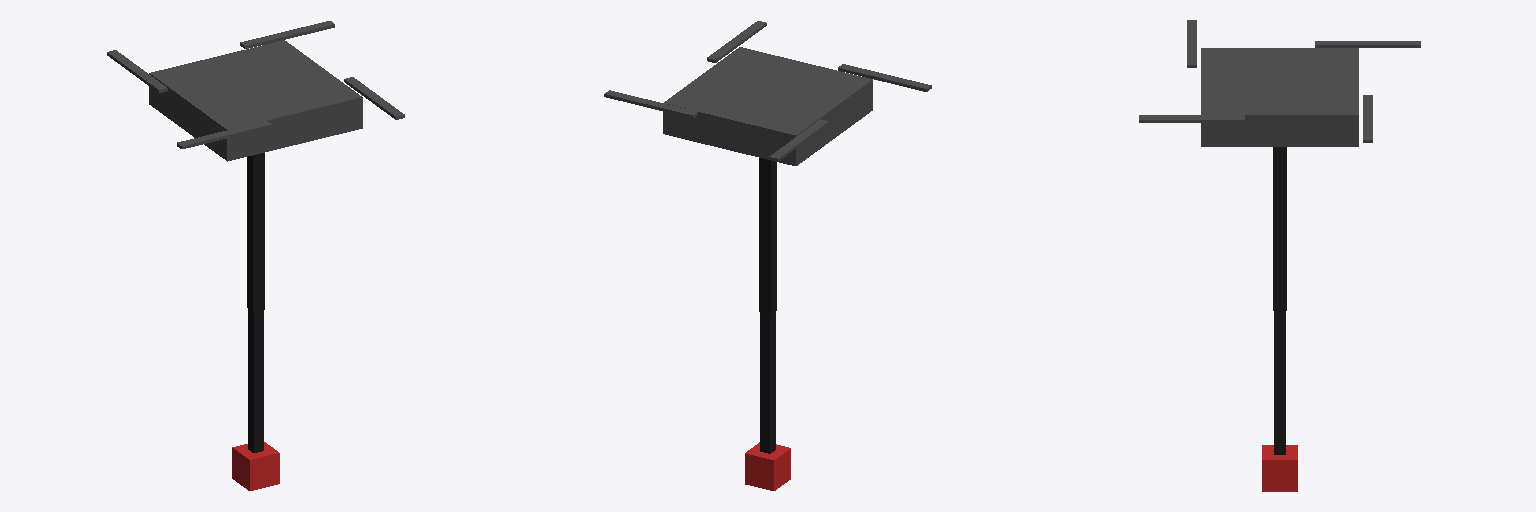
URDF robot description (simple_mesh_aerial_manipulator):
<?xml version="1.0"?>
<robot name="simple_mesh_aerial_manipulator">

  <material name="chassis_gray">
    <color rgba="0.35 0.35 0.35 1.0"/>
  </material>
  <material name="arm_black">
    <color rgba="0.15 0.15 0.15 1.0"/>
  </material>
  <material name="ee_red">
    <color rgba="0.8 0.2 0.2 1.0"/>
  </material>

  <link name="base_link">
    <inertial>
      <origin xyz="0 0 0"/>
      <mass value="0.04"/>
      <inertia ixx="3.2e-5" ixy="0.0" ixz="0.0" iyy="3.2e-5" iyz="0.0" izz="6.0e-5"/>
    </inertial>
    <visual>
      <origin xyz="0 0 0"/>
      <geometry>
        <mesh filename="meshes/base_link.stl"/>
      </geometry>
      <material name="chassis_gray"/>
    </visual>
    <collision>
      <origin xyz="0 0 0"/>
      <geometry>
        <mesh filename="meshes/base_link.stl"/>
      </geometry>
    </collision>
  </link>

  <link name="prop1">
    <inertial>
      <origin xyz="0 0 0"/>
      <mass value="0.001"/>
      <inertia ixx="1.0e-8" ixy="0.0" ixz="0.0" iyy="1.0e-8" iyz="0.0" izz="1.0e-8"/>
    </inertial>
    <visual>
      <origin xyz="0 0 0" rpy="0 0 0"/>
      <geometry>
        <mesh filename="meshes/prop.stl"/>
      </geometry>
      <material name="chassis_gray"/>
    </visual>
    <collision>
      <origin xyz="0 0 0"/>
      <geometry>
        <mesh filename="meshes/prop.stl"/>
      </geometry>
    </collision>
  </link>

  <link name="prop2">
    <inertial>
      <origin xyz="0 0 0"/>
      <mass value="0.001"/>
      <inertia ixx="1.0e-8" ixy="0.0" ixz="0.0" iyy="1.0e-8" iyz="0.0" izz="1.0e-8"/>
    </inertial>
    <visual>
      <origin xyz="0 0 0" rpy="0 0 1.5707963268"/>
      <geometry>
        <mesh filename="meshes/prop.stl"/>
      </geometry>
      <material name="chassis_gray"/>
    </visual>
    <collision>
      <origin xyz="0 0 0" rpy="0 0 1.5707963268"/>
      <geometry>
        <mesh filename="meshes/prop.stl"/>
      </geometry>
    </collision>
  </link>

  <link name="prop3">
    <inertial>
      <origin xyz="0 0 0"/>
      <mass value="0.001"/>
      <inertia ixx="1.0e-8" ixy="0.0" ixz="0.0" iyy="1.0e-8" iyz="0.0" izz="1.0e-8"/>
    </inertial>
    <visual>
      <origin xyz="0 0 0" rpy="0 0 0"/>
      <geometry>
        <mesh filename="meshes/prop.stl"/>
      </geometry>
      <material name="chassis_gray"/>
    </visual>
    <collision>
      <origin xyz="0 0 0"/>
      <geometry>
        <mesh filename="meshes/prop.stl"/>
      </geometry>
    </collision>
  </link>

  <link name="prop4">
    <inertial>
      <origin xyz="0 0 0"/>
      <mass value="0.001"/>
      <inertia ixx="1.0e-8" ixy="0.0" ixz="0.0" iyy="1.0e-8" iyz="0.0" izz="1.0e-8"/>
    </inertial>
    <visual>
      <origin xyz="0 0 0" rpy="0 0 1.5707963268"/>
      <geometry>
        <mesh filename="meshes/prop.stl"/>
      </geometry>
      <material name="chassis_gray"/>
    </visual>
    <collision>
      <origin xyz="0 0 0" rpy="0 0 1.5707963268"/>
      <geometry>
        <mesh filename="meshes/prop.stl"/>
      </geometry>
    </collision>
  </link>

  <joint name="prop1_joint" type="fixed">
    <parent link="base_link"/>
    <child link="prop1"/>
    <origin xyz="0.05 0.05 0.01" rpy="0 0 0"/>
  </joint>

  <joint name="prop2_joint" type="fixed">
    <parent link="base_link"/>
    <child link="prop2"/>
    <origin xyz="-0.05 0.05 0.01" rpy="0 0 0"/>
  </joint>

  <joint name="prop3_joint" type="fixed">
    <parent link="base_link"/>
    <child link="prop3"/>
    <origin xyz="-0.05 -0.05 0.01" rpy="0 0 0"/>
  </joint>

  <joint name="prop4_joint" type="fixed">
    <parent link="base_link"/>
    <child link="prop4"/>
    <origin xyz="0.05 -0.05 0.01" rpy="0 0 0"/>
  </joint>

  <link name="arm_link_1">
    <inertial>
      <origin xyz="0 0 -0.06"/>
      <mass value="0.008"/>
      <inertia ixx="9.8e-6" ixy="0.0" ixz="0.0" iyy="9.8e-6" iyz="0.0" izz="3.0e-7"/>
    </inertial>
    <visual>
      <origin xyz="0 0 -0.06"/>
      <geometry>
        <mesh filename="meshes/arm_link_1.stl"/>
      </geometry>
      <material name="arm_black"/>
    </visual>
    <collision>
      <origin xyz="0 0 -0.06"/>
      <geometry>
        <mesh filename="meshes/arm_link_1.stl"/>
      </geometry>
    </collision>
  </link>

  <link name="arm_link_2">
    <inertial>
      <origin xyz="0 0 -0.05"/>
      <mass value="0.006"/>
      <inertia ixx="5.2e-6" ixy="0.0" ixz="0.0" iyy="5.2e-6" iyz="0.0" izz="2.0e-7"/>
    </inertial>
    <visual>
      <origin xyz="0 0 -0.05"/>
      <geometry>
        <mesh filename="meshes/arm_link_2.stl"/>
      </geometry>
      <material name="arm_black"/>
    </visual>
    <collision>
      <origin xyz="0 0 -0.05"/>
      <geometry>
        <mesh filename="meshes/arm_link_2.stl"/>
      </geometry>
    </collision>
  </link>

  <link name="end_effector">
    <inertial>
      <origin xyz="0 0 0"/>
      <mass value="0.002"/>
      <inertia ixx="1.5e-7" ixy="0.0" ixz="0.0" iyy="1.5e-7" iyz="0.0" izz="1.5e-7"/>
    </inertial>
    <visual>
      <origin xyz="0 0 0"/>
      <geometry>
        <mesh filename="meshes/end_effector.stl"/>
      </geometry>
      <material name="ee_red"/>
    </visual>
    <collision>
      <origin xyz="0 0 0"/>
      <geometry>
        <mesh filename="meshes/end_effector.stl"/>
      </geometry>
    </collision>
  </link>

  <joint name="manipulator_joint_1" type="revolute">
    <parent link="base_link"/>
    <child link="arm_link_1"/>
    <origin xyz="0 0 -0.012" rpy="0 0 0"/>
    <axis xyz="0 1 0"/>
    <limit lower="-1.2" upper="1.2" effort="0.25" velocity="14.0"/>
    <dynamics damping="0.02" friction="0.0"/>
  </joint>

  <joint name="manipulator_joint_2" type="revolute">
    <parent link="arm_link_1"/>
    <child link="arm_link_2"/>
    <origin xyz="0 0 -0.12" rpy="0 0 0"/>
    <axis xyz="0 1 0"/>
    <limit lower="-1.5" upper="1.5" effort="0.15" velocity="18.0"/>
    <dynamics damping="0.015" friction="0.0"/>
  </joint>

  <joint name="ee_fixed" type="fixed">
    <parent link="arm_link_2"/>
    <child link="end_effector"/>
    <origin xyz="0 0 -0.1" rpy="0 0 0"/>
  </joint>

</robot>

--- What the picture shows (computed from the rendered views, not written in the file) ---
The picture shows the robot from 3 angles, left to right: view 1: azimuth 30°, elevation 25°; view 2: azimuth 150°, elevation 25°; view 3: azimuth 270°, elevation 25°; orthographic projection.
Robot: simple_mesh_aerial_manipulator — 8 links, 7 joints (2 revolute, 5 fixed); root link base_link; default pose: all joints at 0.
Visible links, largest first — view 1: base_link, arm_link_1, arm_link_2, end_effector, prop1, prop3, prop2, prop4; view 2: base_link, arm_link_1, arm_link_2, end_effector, prop3, prop1, prop2, prop4; view 3: base_link, arm_link_1, arm_link_2, end_effector, prop4, prop2.
Link boxes in pixels (<box>): base_link: <box>149,40,362,161</box>; arm_link_1: <box>247,153,264,311</box>; arm_link_2: <box>248,309,263,452</box>; end_effector: <box>232,442,279,490</box>; prop1: <box>240,21,334,48</box>; prop3: <box>177,121,271,148</box>; prop2: <box>107,50,167,92</box>; prop4: <box>344,77,404,119</box>; base_link: <box>663,47,872,165</box>; arm_link_1: <box>759,158,776,314</box>; arm_link_2: <box>760,312,775,453</box>; end_effector: <box>745,442,790,490</box>; prop3: <box>838,64,931,91</box>; prop1: <box>604,90,697,118</box>; prop2: <box>769,119,828,161</box>; prop4: <box>707,21,766,62</box>; base_link: <box>1201,48,1358,146</box>; arm_link_1: <box>1273,147,1286,310</box>; arm_link_2: <box>1274,311,1285,454</box>; end_effector: <box>1262,445,1297,491</box>; prop4: <box>1139,115,1244,122</box>; prop2: <box>1315,41,1420,47</box>.
Size in the robot's own frame: 0.16 by 0.16 by 0.253 metres.
8 mesh visuals loaded from 5 distinct referenced files (5 ASCII STL).
